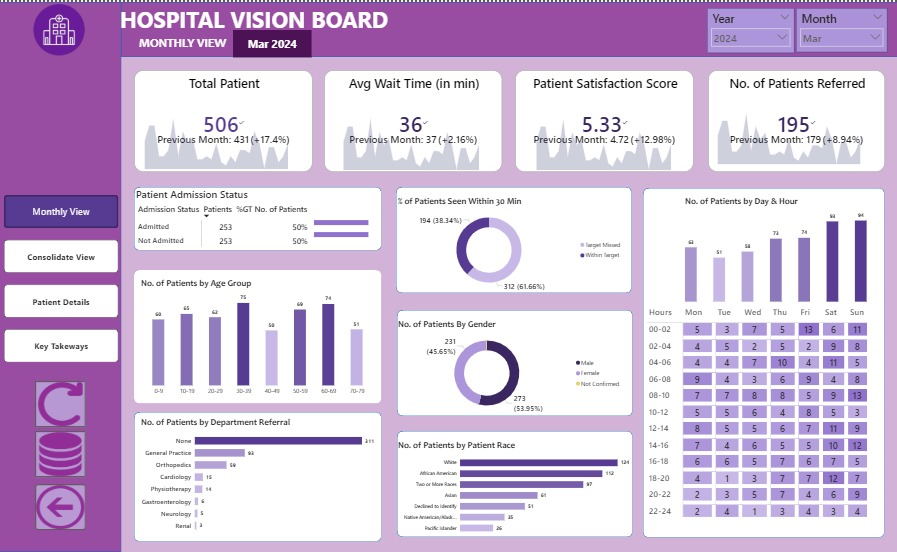

Layout of this report page (visuals, bound fields, positions):
{"tool":"powerbi","page":{"name":"Monthly View","canvas":[2300,1400],"ordinal":0},"visuals":[{"type":"kpi","title":"Avg Wait Time (in min)","fields":{"Indicator":["Hospital ER_Data.Avg Wait Time"],"TrendLine":["Date table.Month"],"Goal":["Hospital ER_Data.Avg Wait Time PM"]},"box":[835,172,454.4,260],"z":0,"group":"g2"},{"type":"kpi","title":"Total Patient","fields":{"Indicator":["Hospital ER_Data.No. of Patients"],"Goal":["Date table.No. of patients-previous month"],"TrendLine":["Date table.Month"]},"box":[350.7,173.5,455,260],"z":0,"group":"g1"},{"type":"kpi","title":"Patient Satisfaction Score","fields":{"TrendLine":["Date table.Month"],"Indicator":["Hospital ER_Data.Avg Satisfaction Score"],"Goal":["Hospital ER_Data.Avg satisfaction score PM"]},"box":[1320.5,173.5,455,260],"z":0,"group":"g3"},{"type":"kpi","title":"No. of Patients Referred","fields":{"TrendLine":["Date table.Month"],"Indicator":["Hospital ER_Data.No. of Patient Referred"],"Goal":["Hospital ER_Data.No. of Patient Referred PM"]},"box":[1812.8,173.5,450.8,260],"z":0,"group":"g4"},{"type":"shape","box":[350,471.7,630,161.7],"z":0},{"type":"shape","box":[8.8,0,311.2,1400],"z":1000},{"type":"areaChart","fields":{"Category":["Date table.Date.Variation.Date Hierarchy.Day"],"Y":["Hospital ER_Data.No. of Patients"]},"box":[1809.9,242.2,453.6,176.4],"z":1000,"group":"g4"},{"type":"areaChart","fields":{"Category":["Date table.Date.Variation.Date Hierarchy.Day"],"Y":["Hospital ER_Data.No. of Patients"]},"box":[857.4,255.4,432.6,175.8],"z":1000,"group":"g2"},{"type":"areaChart","fields":{"Category":["Date table.Date.Variation.Date Hierarchy.Day"],"Y":["Hospital ER_Data.No. of Patients"]},"box":[350.1,255.7,455.8,175.8],"z":1000,"group":"g1"},{"type":"areaChart","fields":{"Category":["Date table.Date.Variation.Date Hierarchy.Day"],"Y":["Hospital ER_Data.No. of Patients"]},"box":[1347.4,256.9,430.1,175.8],"z":1000,"group":"g3"},{"type":"shape","box":[319.2,0,1979.6,140],"z":2000},{"type":"textbox","box":[311.6,0,706.7,106],"z":3000},{"type":"slicer","fields":{"Values":["Date table.Year"]},"box":[1810,15,222.5,115],"z":4000},{"type":"slicer","fields":{"Values":["Date table.Month"]},"box":[2037.5,15,232.5,112.5],"z":5000},{"type":"group","id":"g1","title":"KPI1","box":[350.1,173.5,455,260],"z":6000},{"type":"card","fields":{"Values":["Min(Date table.Month & Year)"]},"box":[604,70,200,70],"z":7000},{"type":"textbox","box":[311.6,70.7,327.7,70.7],"z":8000},{"type":"group","id":"g2","title":"KPI1","box":[835,172,455,260],"z":9000},{"type":"group","id":"g3","title":"KPI1","box":[1320.5,173.5,455,260],"z":10000},{"type":"group","id":"g4","title":"KPI1","box":[1809.9,173.5,453.7,260],"z":11000},{"type":"pivotTable","title":"Patient Admission Status","fields":{"Rows":["Hospital ER_Data.Admission Status"],"Values":["Hospital ER_Data.No. of Patients","Divide(Hospital ER_Data.No. of Patients, ScopedEval(Hospital ER_Data.No. of Patients, []))"]},"box":[350,472,602,162],"z":12000},{"type":"barChart","fields":{"Y":["Hospital ER_Data.No. of Patients"],"Category":["Hospital ER_Data.Admission Status"]},"box":[804.3,525.7,174.3,94.3],"z":13000},{"type":"shape","box":[350,683.3,630,340],"z":14000},{"type":"clusteredColumnChart","fields":{"Category":["Hospital ER_Data.Age Group"],"Y":["Hospital ER_Data.No. of Patients"]},"box":[363.3,700,605,310],"z":15000},{"type":"shape","box":[350,1043.3,630,330],"z":16000},{"type":"barChart","fields":{"Y":["Hospital ER_Data.No. of Patients"],"Category":["Hospital ER_Data.Department Referral"]},"box":[363.3,1055,605,306.7],"z":17000},{"type":"shape","box":[1018,472,600,270],"z":18000},{"type":"donutChart","title":"% of Patients Seen Within 30 Min","fields":{"Y":["Hospital ER_Data.No. of Patients"],"Category":["Hospital ER_Data.Waittime Status"]},"box":[1019.2,490,585.2,252],"z":19000},{"type":"shape","box":[1020,785,600,270],"z":20000},{"type":"donutChart","title":"No. of Patients By Gender","fields":{"Y":["Hospital ER_Data.No. of Patients"],"Category":["Hospital ER_Data.Patient Gender"]},"box":[1019.2,803.6,582.4,252],"z":21000},{"type":"shape","box":[1020,1092.5,600,270],"z":22000},{"type":"barChart","fields":{"Y":["Hospital ER_Data.No. of Patients"],"Category":["Hospital ER_Data.Patient Race"]},"box":[1019.2,1111.6,599.2,252],"z":23000},{"type":"shape","box":[1647.5,472.5,615,890],"z":24000},{"type":"pivotTable","fields":{"Rows":["Hospital ER_Data.Waittime Interval"],"Columns":["Date table.Day Name"],"Values":["Hospital ER_Data.No. of Patients"]},"box":[1652.5,767.5,605,575],"z":25000},{"type":"columnChart","title":"No. of Patients by Day & Hour","fields":{"Category":["Date table.Day Name"],"Y":["Hospital ER_Data.No. of Patients"]},"box":[1747.5,490,475,277.5],"z":26000},{"type":"pageNavigator","box":[20.6,491.2,291.2,426.5],"z":27000},{"type":"image","box":[0,0,320.6,141.2],"z":28000},{"type":"actionButton","box":[100,964.7,129.4,117.6],"z":29000},{"type":"actionButton","box":[100,1091.2,129.4,117.6],"z":30000},{"type":"actionButton","box":[100,1226.5,129.4,117.6],"z":31000}]}

Visuals, with their boxes on the page's 2300x1400 design canvas (x1, y1, x2, y2). These are canvas units, not pixel positions in the 897x552 screenshot, which may show the page scaled, cropped or inside an application window:
"Avg Wait Time (in min)" kpi: region(835, 172, 1289, 432)
"Total Patient" kpi: region(351, 174, 806, 434)
"Patient Satisfaction Score" kpi: region(1320, 174, 1776, 434)
"No. of Patients Referred" kpi: region(1813, 174, 2264, 434)
shape: region(350, 472, 980, 633)
shape: region(9, 0, 320, 1400)
areaChart - Date table.Date.Variation.Date Hierarchy.Day x Hospital ER_Data.No. of Patients: region(1810, 242, 2264, 419)
areaChart - Date table.Date.Variation.Date Hierarchy.Day x Hospital ER_Data.No. of Patients: region(857, 255, 1290, 431)
areaChart - Date table.Date.Variation.Date Hierarchy.Day x Hospital ER_Data.No. of Patients: region(350, 256, 806, 432)
areaChart - Date table.Date.Variation.Date Hierarchy.Day x Hospital ER_Data.No. of Patients: region(1347, 257, 1778, 433)
shape: region(319, 0, 2299, 140)
textbox: region(312, 0, 1018, 106)
slicer - Date table.Year: region(1810, 15, 2032, 130)
slicer - Date table.Month: region(2038, 15, 2270, 128)
"KPI1" group: region(350, 174, 805, 434)
card - Min(Date table.Month & Year): region(604, 70, 804, 140)
textbox: region(312, 71, 639, 141)
"KPI1" group: region(835, 172, 1290, 432)
"KPI1" group: region(1320, 174, 1776, 434)
"KPI1" group: region(1810, 174, 2264, 434)
"Patient Admission Status" pivotTable: region(350, 472, 952, 634)
barChart - Hospital ER_Data.No. of Patients x Hospital ER_Data.Admission Status: region(804, 526, 979, 620)
shape: region(350, 683, 980, 1023)
clusteredColumnChart - Hospital ER_Data.Age Group x Hospital ER_Data.No. of Patients: region(363, 700, 968, 1010)
shape: region(350, 1043, 980, 1373)
barChart - Hospital ER_Data.No. of Patients x Hospital ER_Data.Department Referral: region(363, 1055, 968, 1362)
shape: region(1018, 472, 1618, 742)
"% of Patients Seen Within 30 Min" donutChart: region(1019, 490, 1604, 742)
shape: region(1020, 785, 1620, 1055)
"No. of Patients By Gender" donutChart: region(1019, 804, 1602, 1056)
shape: region(1020, 1092, 1620, 1362)
barChart - Hospital ER_Data.No. of Patients x Hospital ER_Data.Patient Race: region(1019, 1112, 1618, 1364)
shape: region(1648, 472, 2262, 1362)
pivotTable - Hospital ER_Data.Waittime Interval x Date table.Day Name: region(1652, 768, 2258, 1342)
"No. of Patients by Day & Hour" columnChart: region(1748, 490, 2222, 768)
pageNavigator: region(21, 491, 312, 918)
image: region(0, 0, 321, 141)
actionButton: region(100, 965, 229, 1082)
actionButton: region(100, 1091, 229, 1209)
actionButton: region(100, 1226, 229, 1344)
